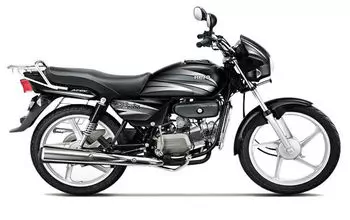bike: (9, 6, 341, 198)
